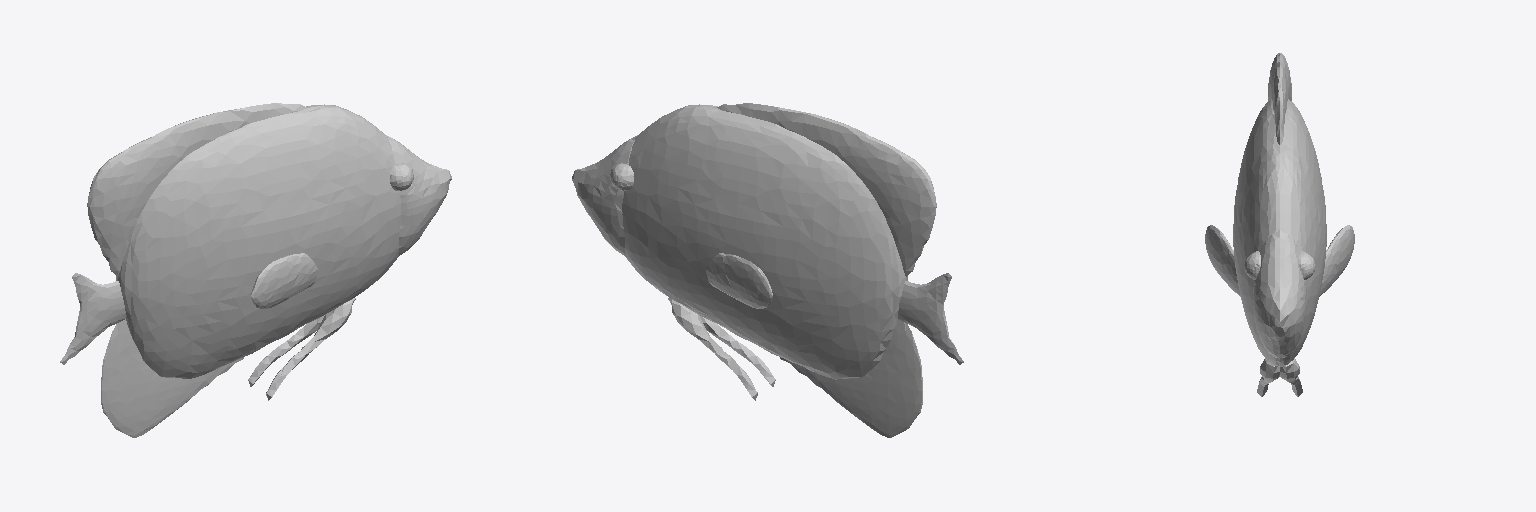
Rendered from fish4.obj.
The picture shows the model from 3 angles: view 1: azimuth 30°, elevation 25°; view 2: azimuth 150°, elevation 25°; view 3: azimuth 270°, elevation 25°; orthographic projection.
Visible parts, largest first — view 1: Object_2; view 2: Object_2; view 3: Object_2.
Boxes of the visible parts, x1=… form: Object_2: x1=60, y1=103, x2=451, y2=437; Object_2: x1=572, y1=103, x2=963, y2=437; Object_2: x1=1205, y1=53, x2=1354, y2=396.
Size of the model in its own units: 0.7018 by 0.5218 by 0.2325.